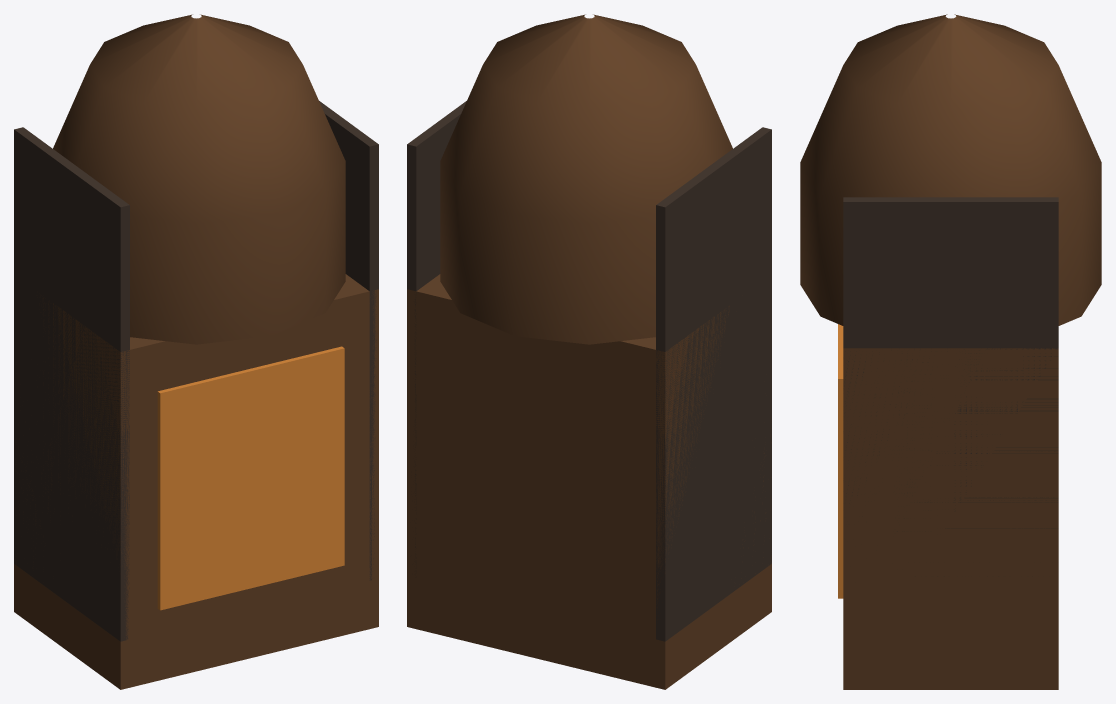
File: cantina_jukebox.glb
3 views of the same model, side by side, from view 1: azimuth 30°, elevation 25°; view 2: azimuth 150°, elevation 25°; view 3: azimuth 270°, elevation 25° (orthographic).
Parts seen in each view (by area): view 1: sw5e_int_cantina_jukebox; view 2: sw5e_int_cantina_jukebox; view 3: sw5e_int_cantina_jukebox.
Boxes of the visible parts, x1,y1,x2,y2 form: sw5e_int_cantina_jukebox: [14, 14, 378, 689]; sw5e_int_cantina_jukebox: [407, 14, 771, 689]; sw5e_int_cantina_jukebox: [800, 14, 1101, 689].
Bounding box in the file's own units: 0.56 × 1.25 × 0.56.
